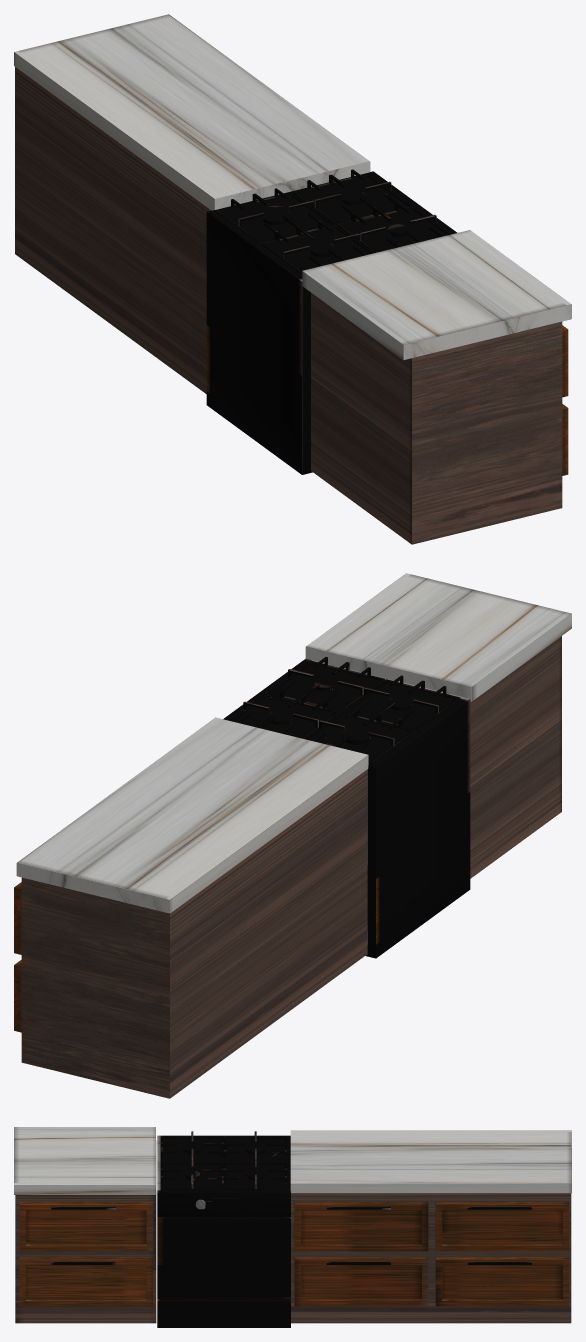
Rendered from oven_Down_OpenGL.obj.
3 views of the same model, one above another, from view 1: azimuth 30°, elevation 25°; view 2: azimuth 150°, elevation 25°; view 3: azimuth 270°, elevation 25° (orthographic). The views are drawn at different scales.
Parts seen in each view (by area): view 1: Bake_Down; view 2: Bake_Down; view 3: Bake_Down.
Boxes of the visible parts, x1,y1,x2,y2 form: Bake_Down: (14,14,571,544); Bake_Down: (14,573,571,1098); Bake_Down: (14,1127,571,1327).
Bounding box in the file's own units: 2.3 × 2.61 × 9.19.
1 material, 1 textured.
